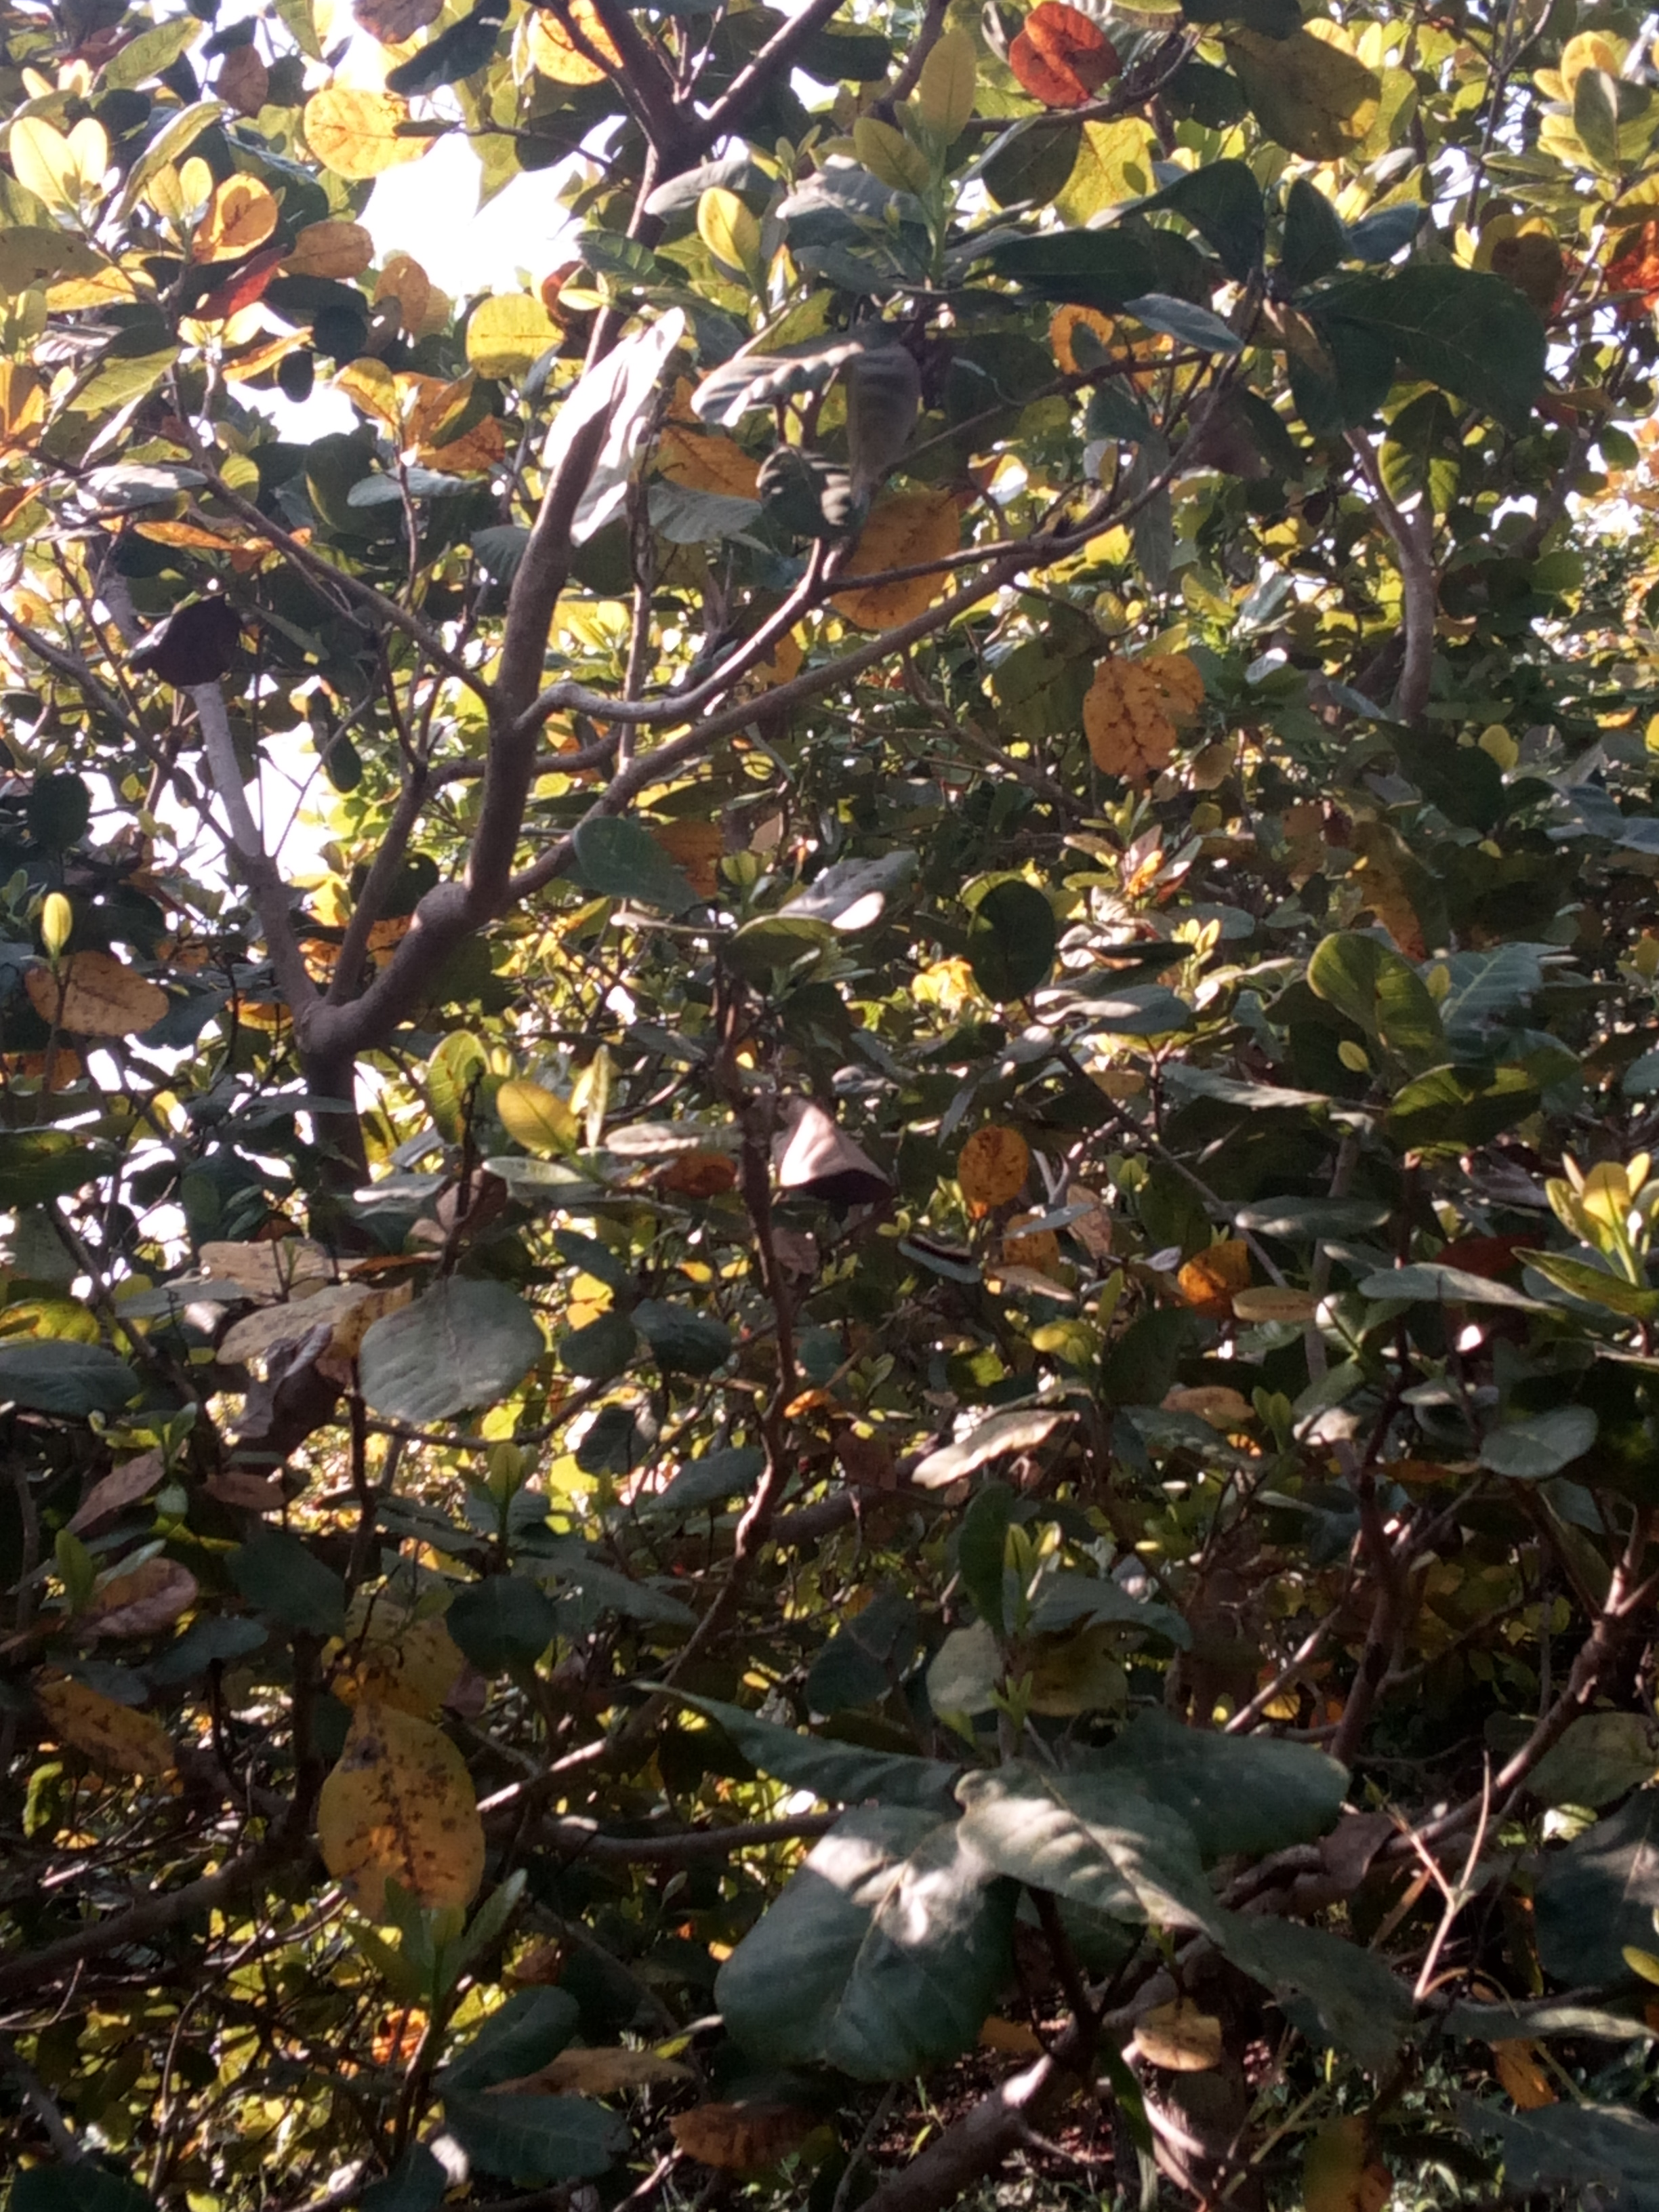Anthracnose: (308, 1698, 477, 1944), (7, 937, 179, 1062), (840, 469, 958, 641), (30, 1669, 179, 1794), (1070, 641, 1182, 780), (941, 1116, 1037, 1242)
